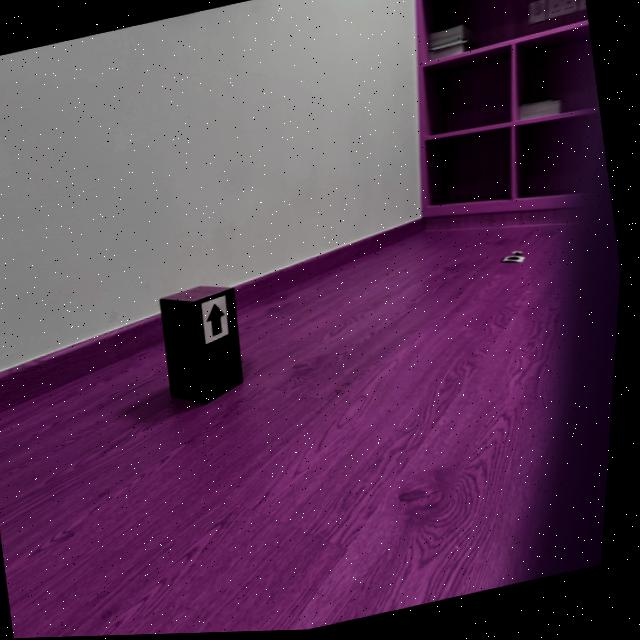UP: (211, 305, 230, 337)
